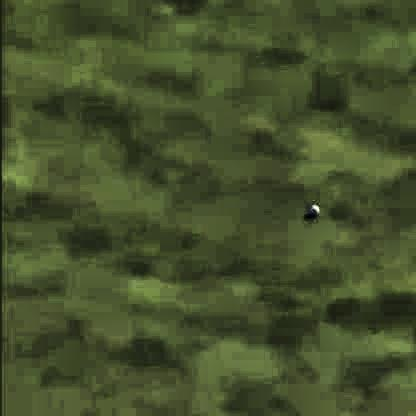golfball: (308, 197, 318, 210)
